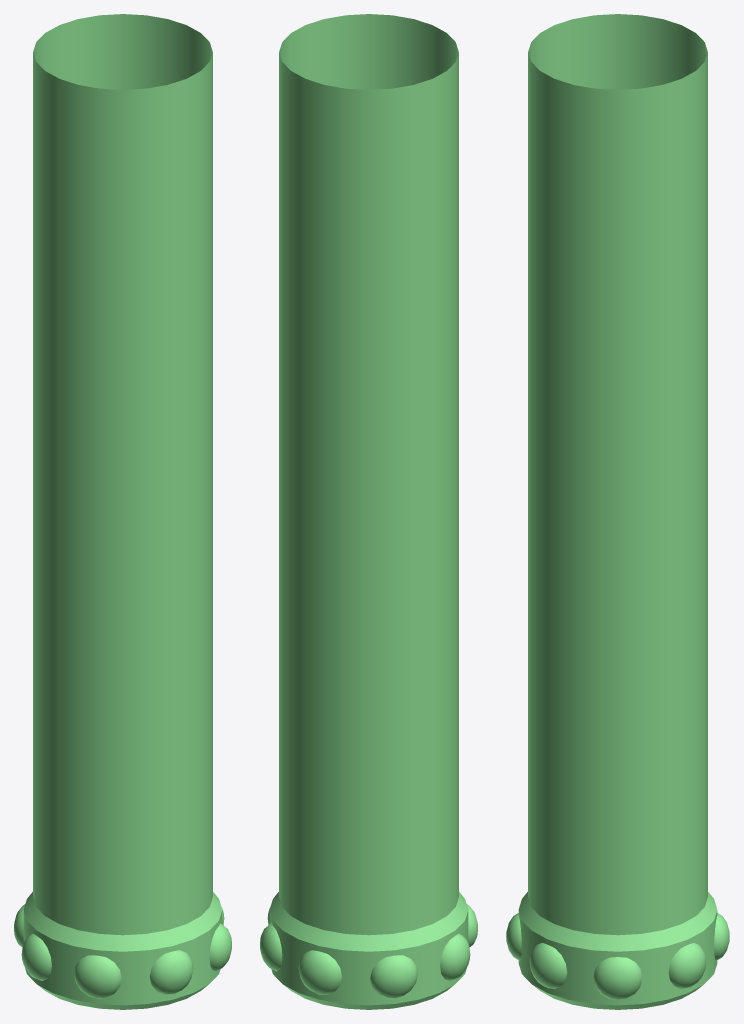
The model's file is pipe_medium_oneside.fbx.
3 renders of one model, left to right at view 1: azimuth 30°, elevation 25°; view 2: azimuth 150°, elevation 25°; view 3: azimuth 270°, elevation 25°, orthographic.
Parts seen in each view (by area): view 1: pipe_medium_oneside; view 2: pipe_medium_oneside; view 3: pipe_medium_oneside.
Boxes of the visible parts, x1,y1,x2,y2 form: pipe_medium_oneside: (14,14,231,1009); pipe_medium_oneside: (260,14,477,1009); pipe_medium_oneside: (506,14,729,1009).
Size of the model in its own units: 132 by 600 by 132.
